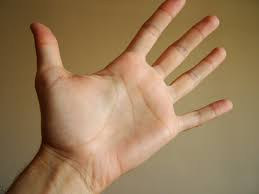palm: (26, 1, 236, 188)
